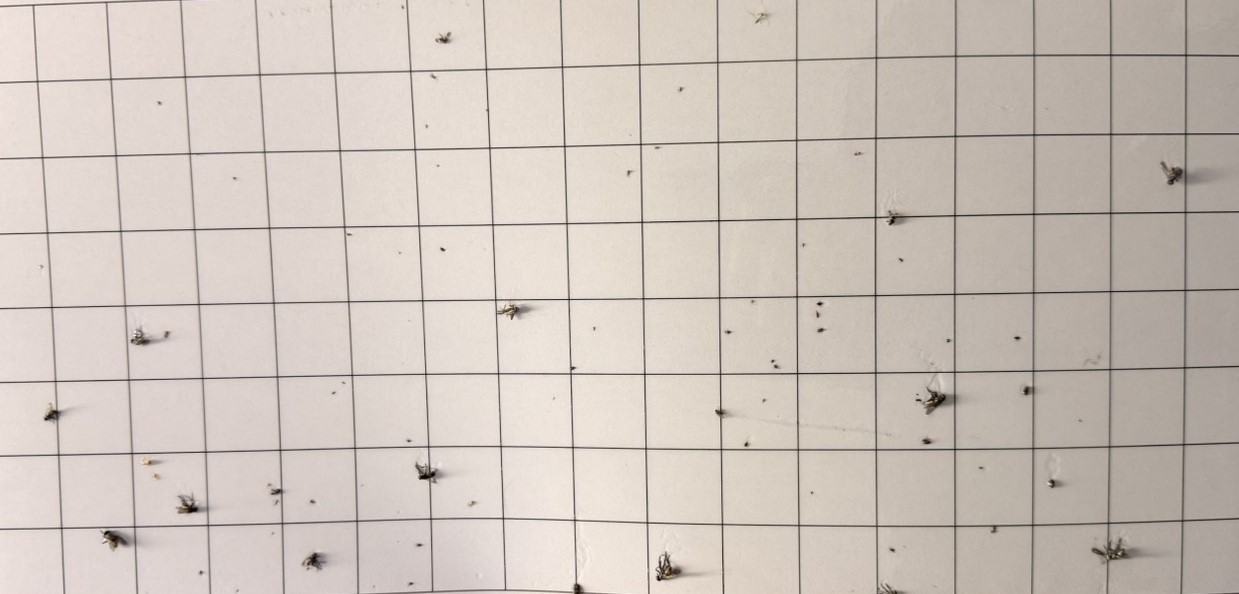fly: (1091, 536, 1131, 566), (653, 552, 683, 582), (921, 386, 948, 417), (98, 528, 129, 554), (1160, 159, 1184, 188), (413, 460, 439, 485), (175, 493, 200, 516), (129, 326, 152, 347), (302, 551, 325, 572), (497, 303, 522, 322), (43, 403, 61, 423)
test: (435, 31, 453, 47), (754, 10, 769, 25), (886, 211, 899, 228), (816, 325, 829, 336), (572, 582, 583, 594), (141, 457, 154, 467), (270, 487, 283, 497), (921, 436, 932, 446), (1047, 478, 1057, 489), (162, 328, 171, 340), (1022, 385, 1031, 397), (625, 168, 635, 178), (467, 499, 477, 509), (990, 524, 1000, 534), (428, 72, 439, 81), (714, 407, 725, 416), (723, 328, 734, 336), (815, 309, 823, 319), (1012, 335, 1022, 343), (152, 472, 160, 481), (308, 497, 317, 505), (816, 300, 825, 308), (771, 363, 781, 370), (677, 86, 685, 94), (854, 149, 862, 157), (888, 546, 896, 554), (808, 489, 816, 497), (407, 580, 416, 587), (568, 365, 577, 372), (946, 336, 953, 345), (654, 144, 662, 151), (274, 498, 281, 506), (898, 256, 905, 264), (415, 542, 424, 548), (439, 246, 446, 253), (340, 379, 347, 386), (406, 437, 413, 444), (198, 569, 205, 576), (743, 441, 750, 448), (39, 263, 46, 270), (331, 390, 339, 396), (592, 324, 598, 332), (156, 100, 163, 106), (485, 107, 492, 113), (800, 241, 807, 247), (750, 298, 756, 305), (770, 357, 777, 363), (346, 232, 354, 237), (397, 250, 403, 256), (761, 398, 767, 404), (267, 482, 273, 488), (232, 175, 237, 182), (424, 123, 429, 130), (977, 465, 984, 470), (400, 4, 405, 10), (270, 531, 276, 536), (435, 163, 440, 168)
